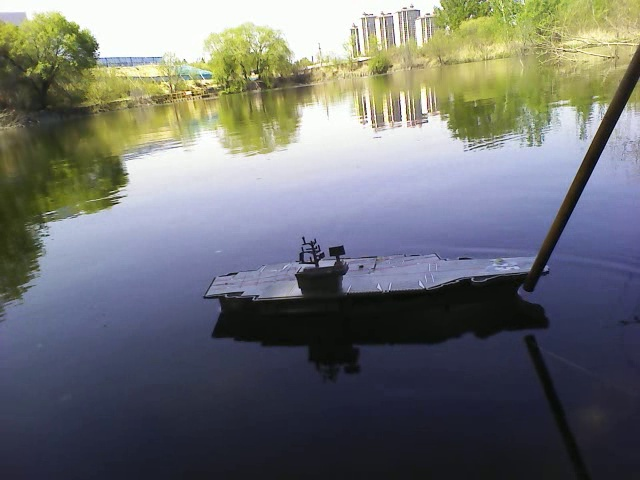aircraft_carrier: (204, 241, 552, 310)
